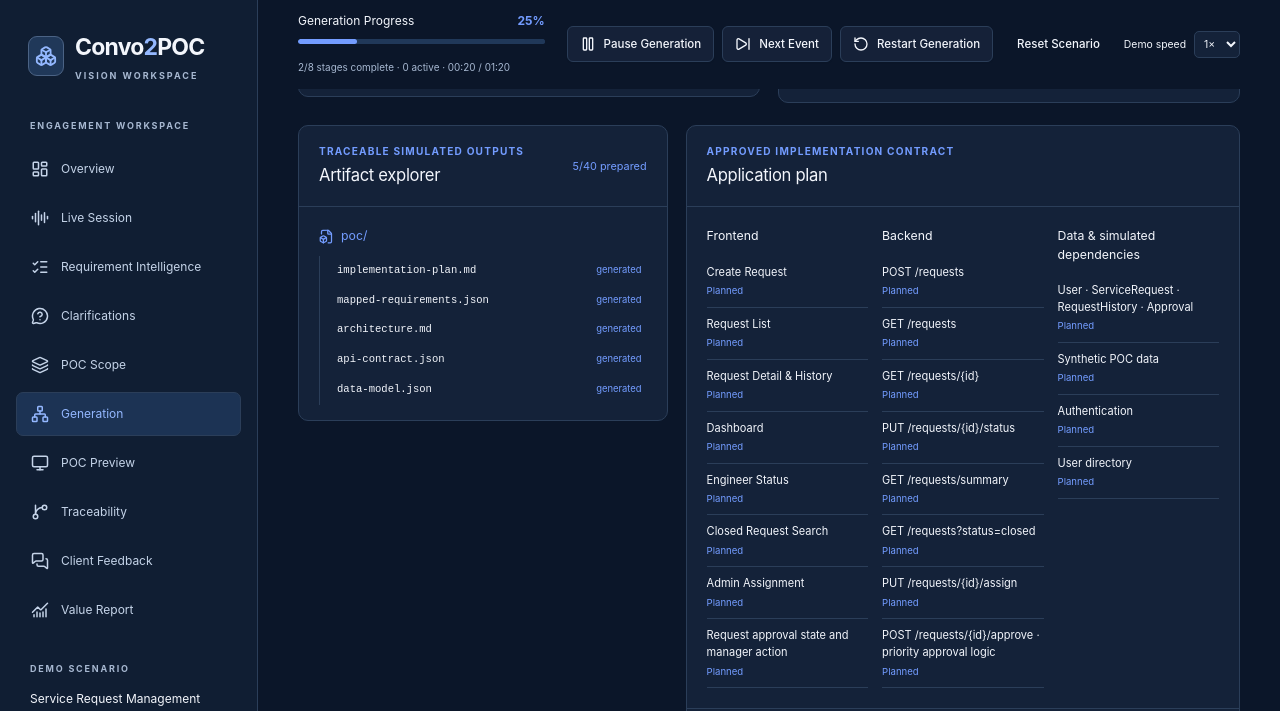
AI Generation Command Center › reveals artifacts after events and opens a metadata-only inspector
This screenshot has width=1280, height=711.
(page scrolled)
Click the button with aria-label "Inspect api-contract.json: generated": x=391, y=359 [332, 345, 647, 375]
(page scrolled)
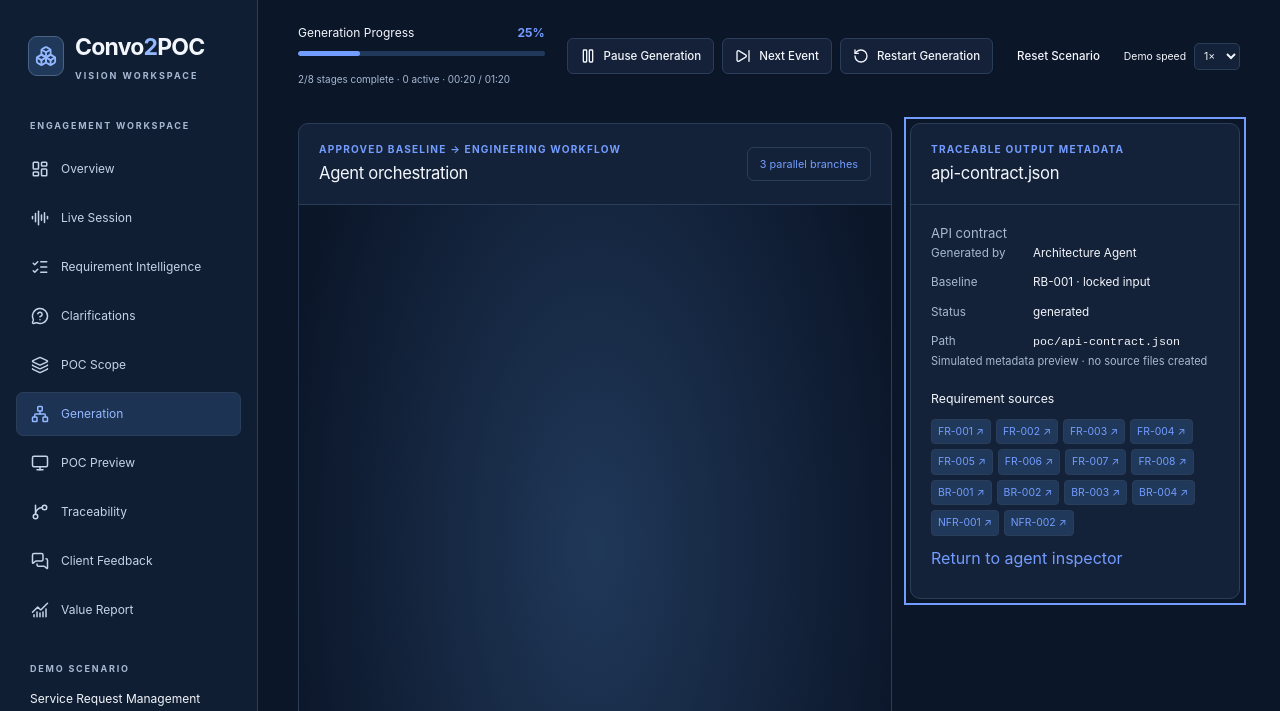
Now the element named "Artifact inspector" shows "Architecture Agent", box [1033, 246, 1137, 260]
Now the element named "Artifact inspector" shows "no source files created", box [931, 354, 1207, 368]
